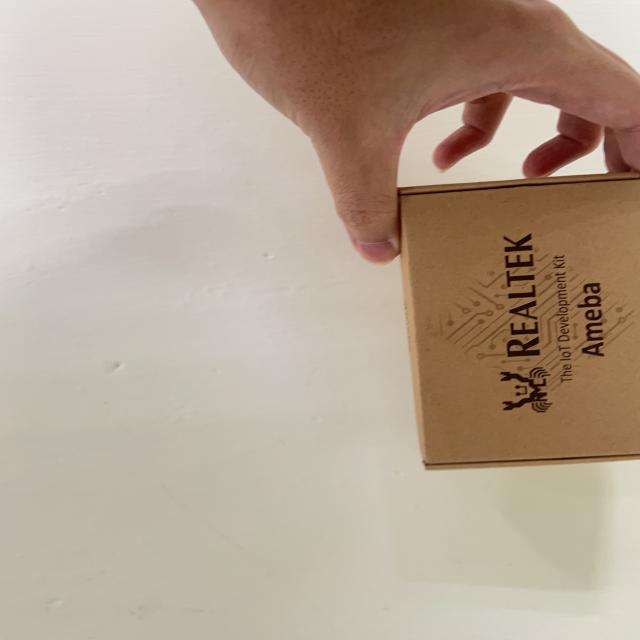box: (360, 159, 640, 483)
